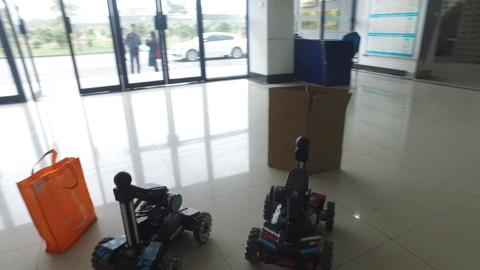bag: (18, 144, 96, 252)
chariot: (240, 136, 338, 267), (91, 167, 214, 269)
